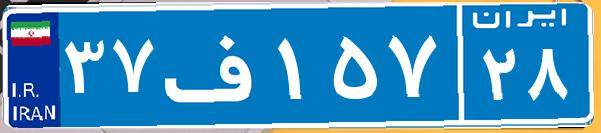1: (273, 28, 330, 110)
2: (475, 38, 525, 113)
3: (57, 26, 110, 107)
5: (330, 28, 385, 110)
7: (385, 28, 445, 110), (110, 28, 158, 105)
8: (525, 38, 570, 115)
ف: (158, 15, 273, 115)
